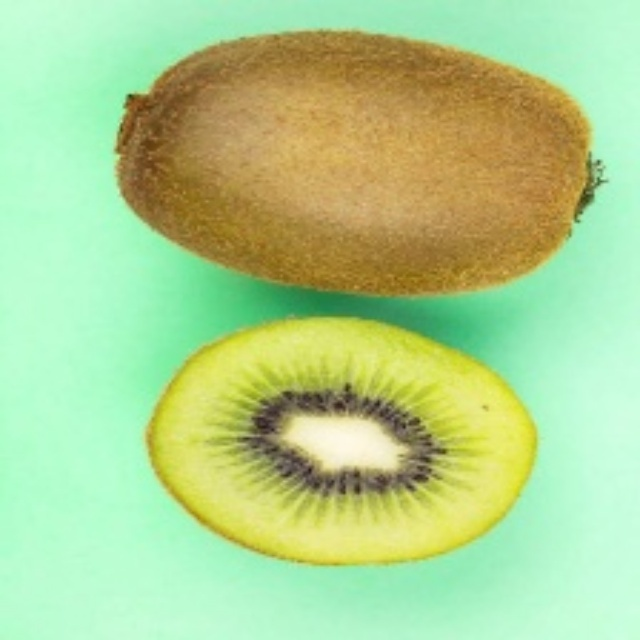kiwi: (107, 38, 589, 303), (148, 312, 541, 575)
